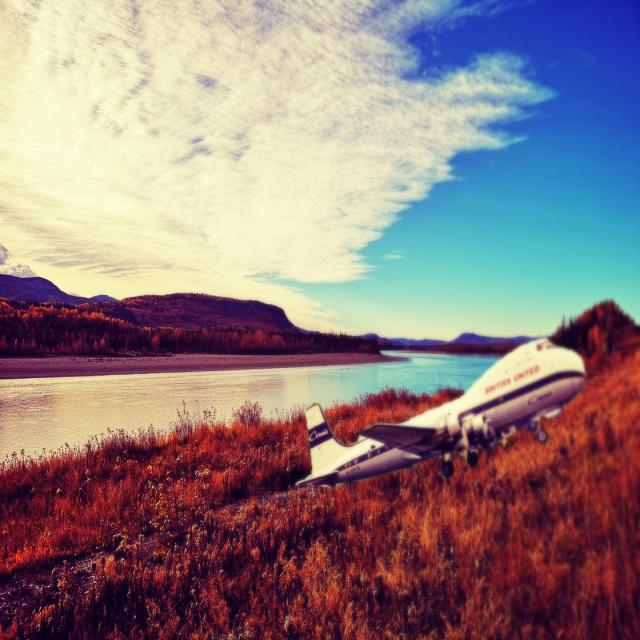airplane: (294, 336, 586, 489)
